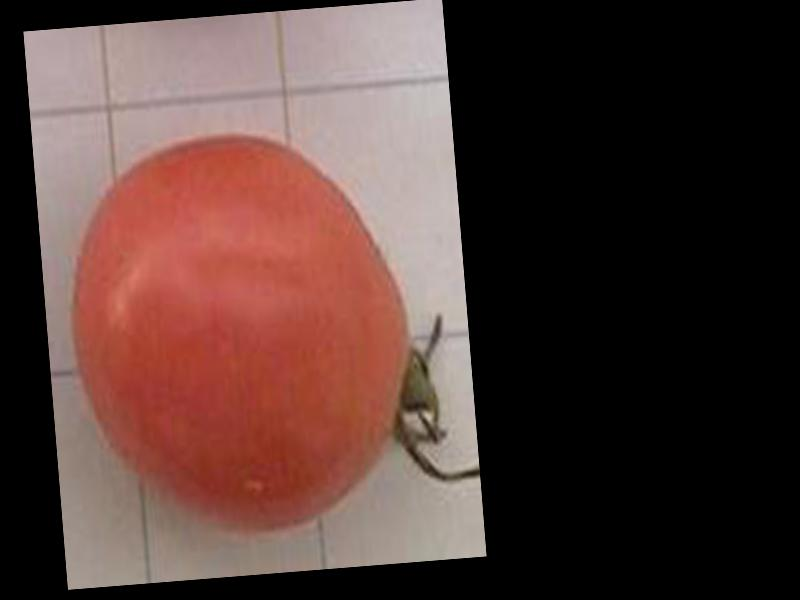Tomato: (58, 123, 423, 546)
